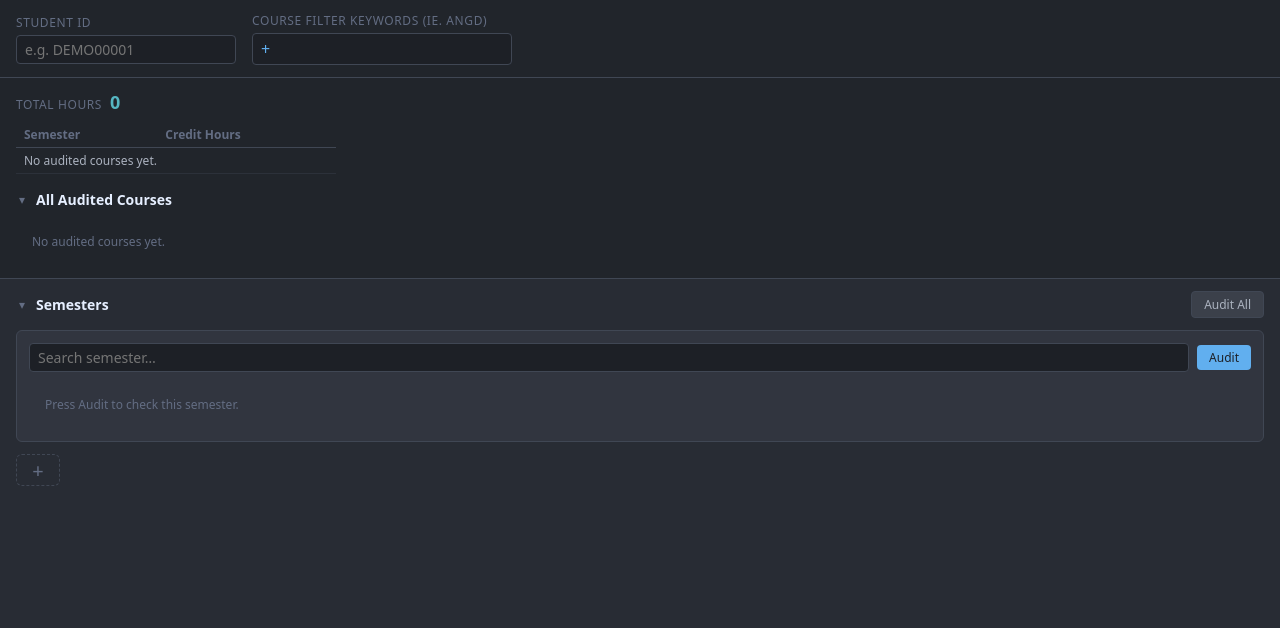
it: StudentAudit › adds another semester card on +, and shows remove buttons once there are two
Click the button titled "Add semester" below "Press Audit to check this semester." at (38, 470), box [16,454,60,486]
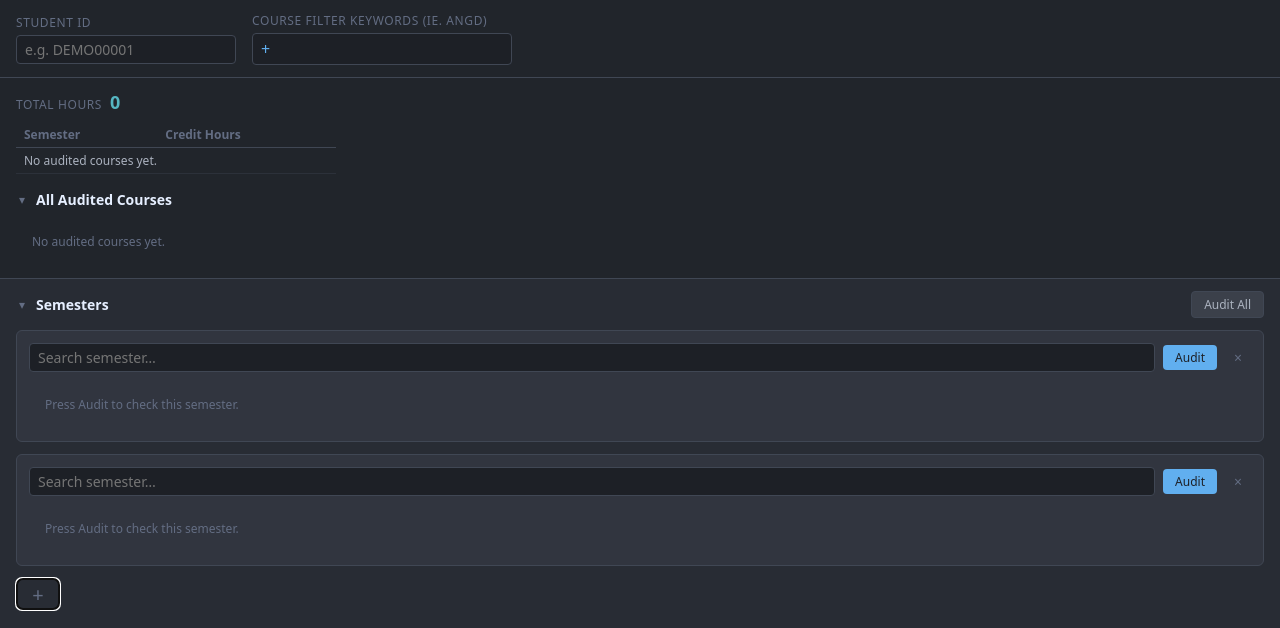
Check: the number of buttons "Audit" is 2, box [1163,345,1217,370]; [1163,469,1217,494]
Check: the number of buttons named "Remove semester" is 2, box [1225,344,1251,370]; [1225,468,1251,494]
